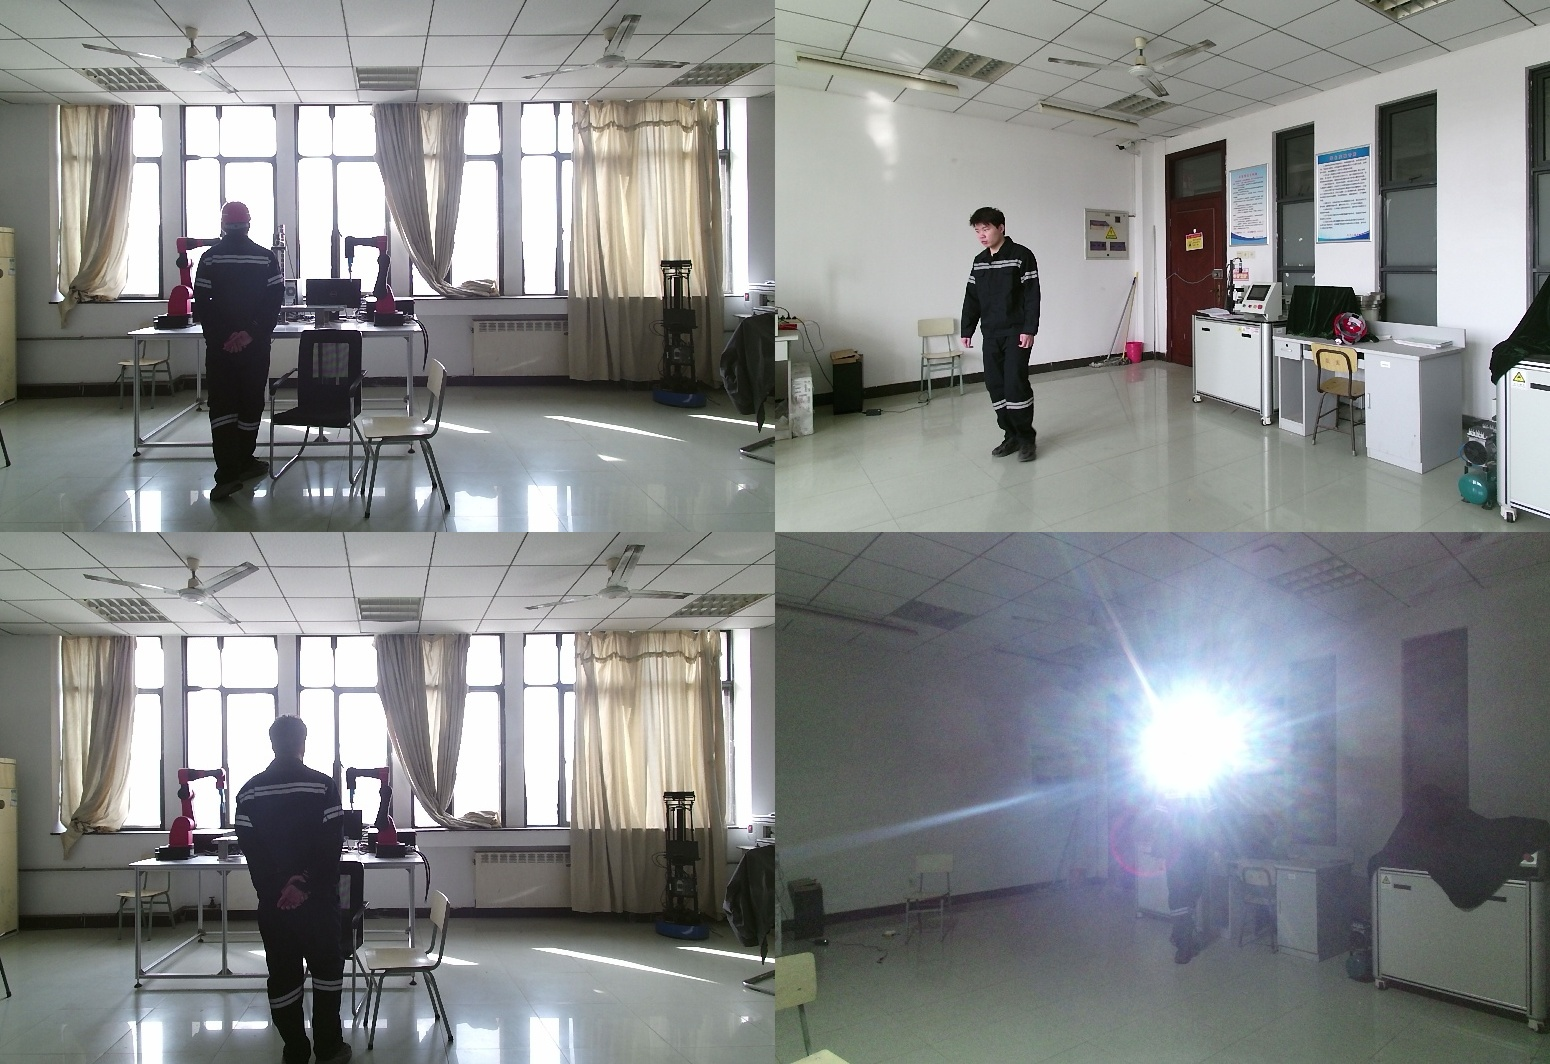person: (233, 717, 361, 1064), (190, 202, 294, 498), (962, 207, 1064, 458), (1147, 745, 1227, 969)
